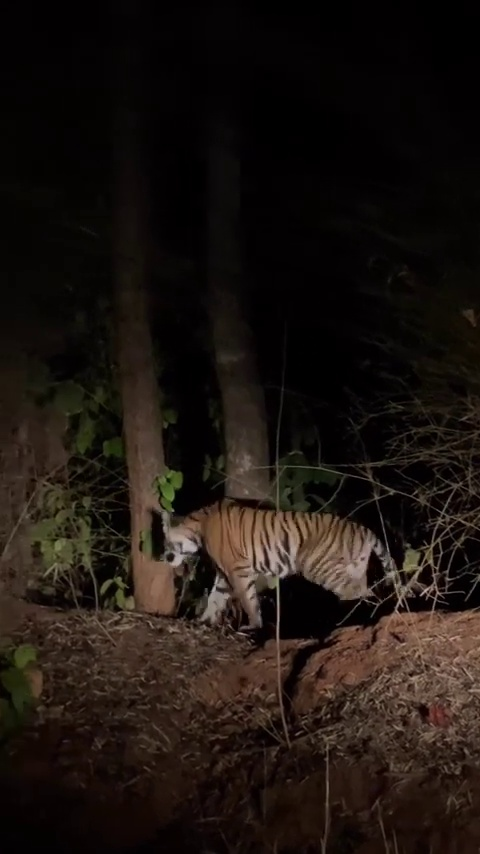Tiger: (159, 498, 413, 636)
